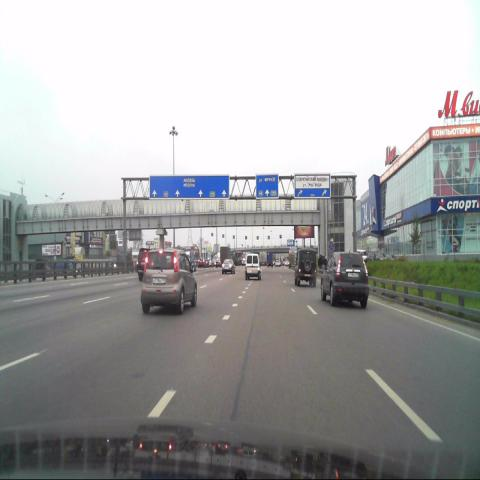3_27: (327, 240, 334, 251)
